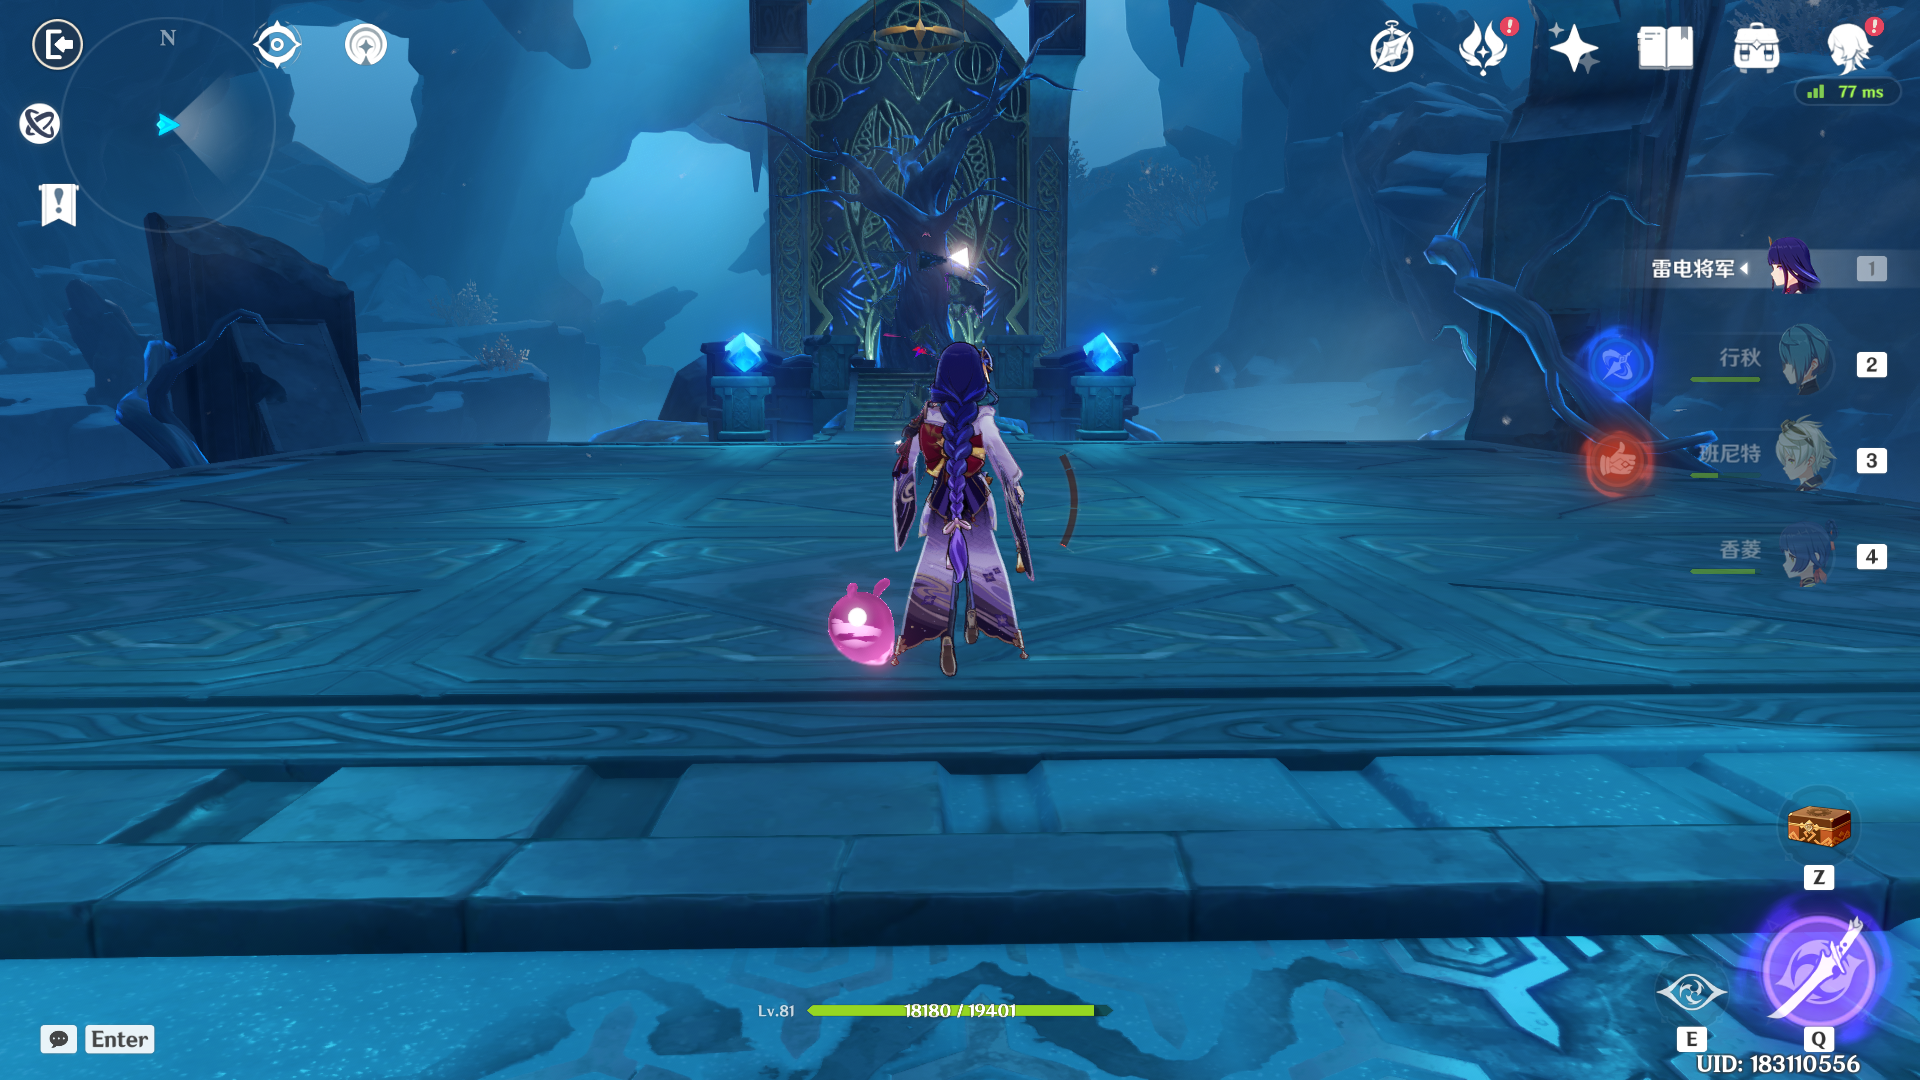character: (832, 342, 1112, 709)
